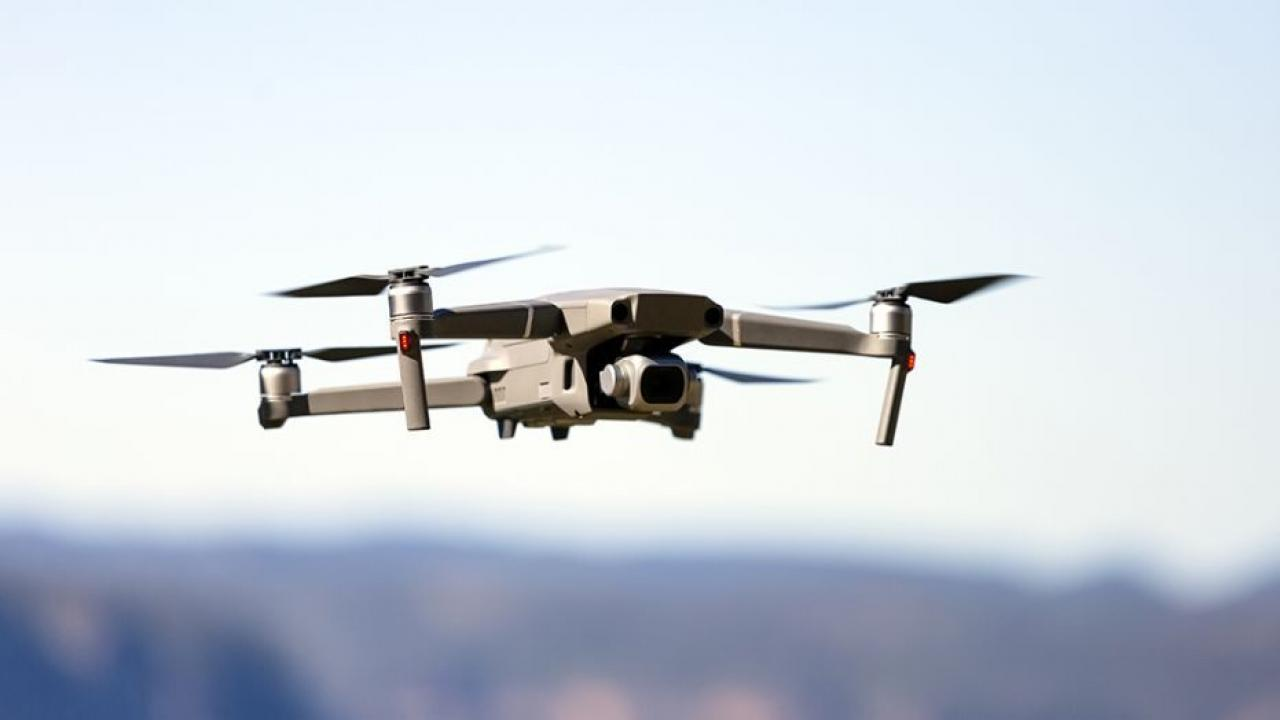Drone: (85, 231, 1046, 460)
